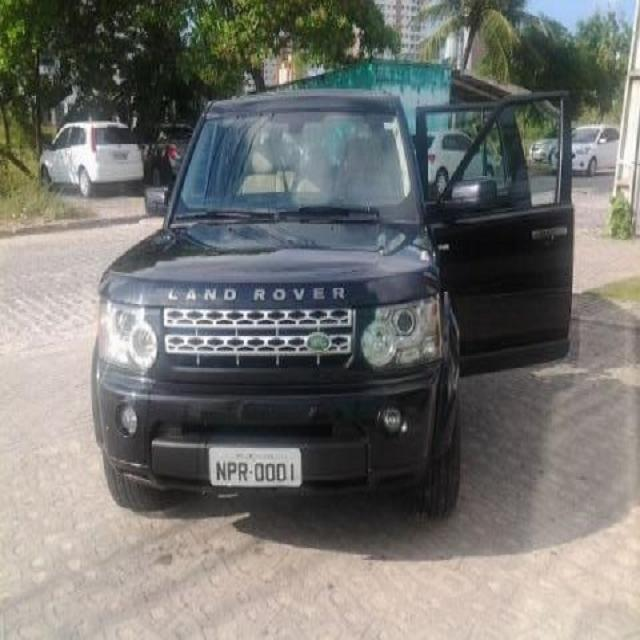Placa: (209, 445, 303, 487)
